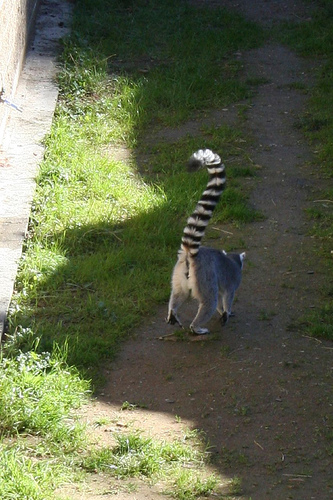cat: (157, 143, 251, 341)
